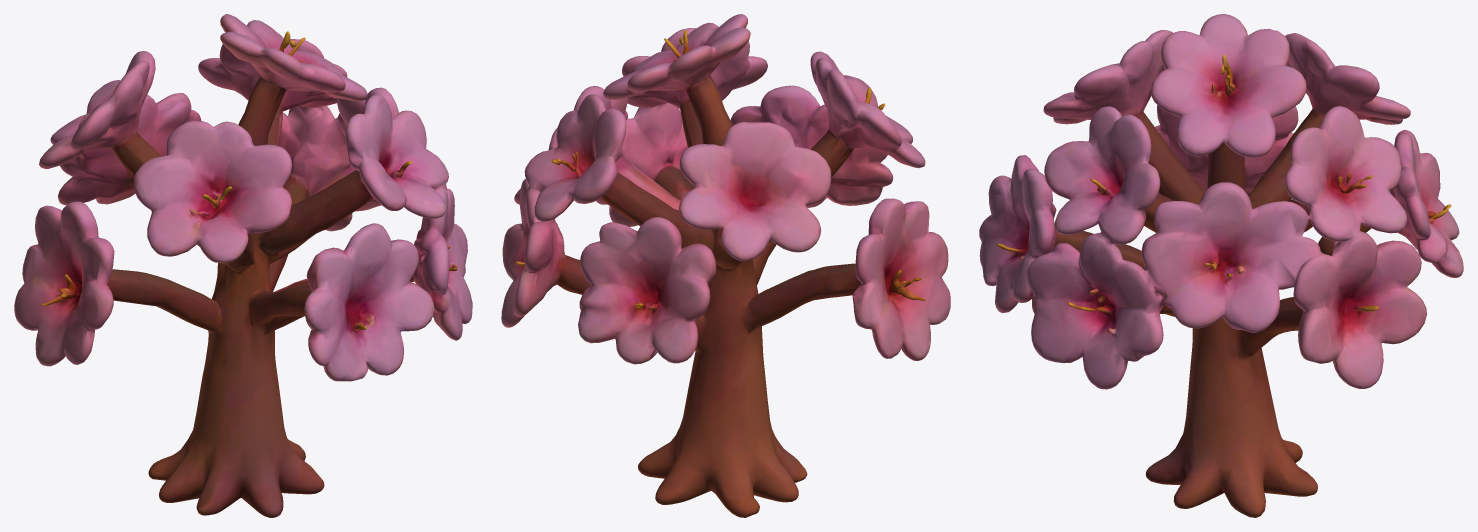
Rendered from tree_cherry_blossom.glb.
3 views of the same model, side by side, from view 1: azimuth 30°, elevation 25°; view 2: azimuth 150°, elevation 25°; view 3: azimuth 270°, elevation 25° (orthographic). The views are drawn at different scales.
Parts seen in each view (by area): view 1: tripo_node_4b6951ee-e0cf-4799-b0c9-25c387b8a4a9; view 2: tripo_node_4b6951ee-e0cf-4799-b0c9-25c387b8a4a9; view 3: tripo_node_4b6951ee-e0cf-4799-b0c9-25c387b8a4a9.
Boxes of the visible parts, x1,y1,x2,y2 form: tripo_node_4b6951ee-e0cf-4799-b0c9-25c387b8a4a9: (14, 14, 472, 517); tripo_node_4b6951ee-e0cf-4799-b0c9-25c387b8a4a9: (501, 14, 950, 517); tripo_node_4b6951ee-e0cf-4799-b0c9-25c387b8a4a9: (979, 14, 1463, 517).
Size of the model in its own units: 0.8618 by 0.9485 by 0.8978.
1 material, 1 textured.
